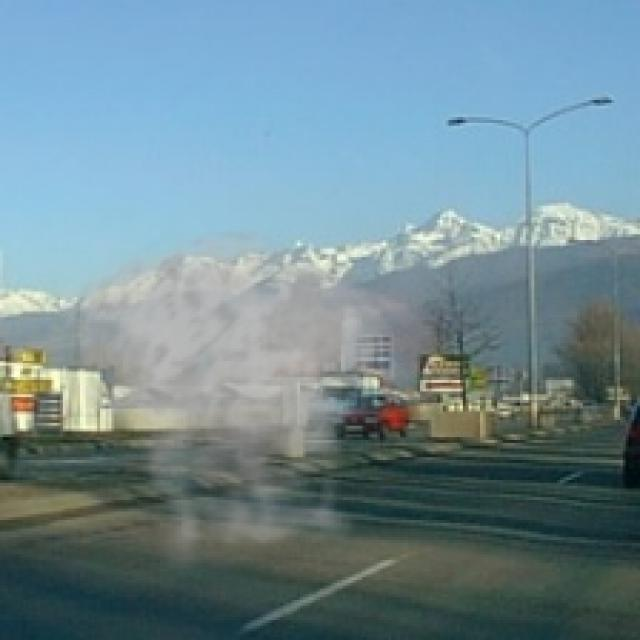smoke: (54, 229, 423, 577)
